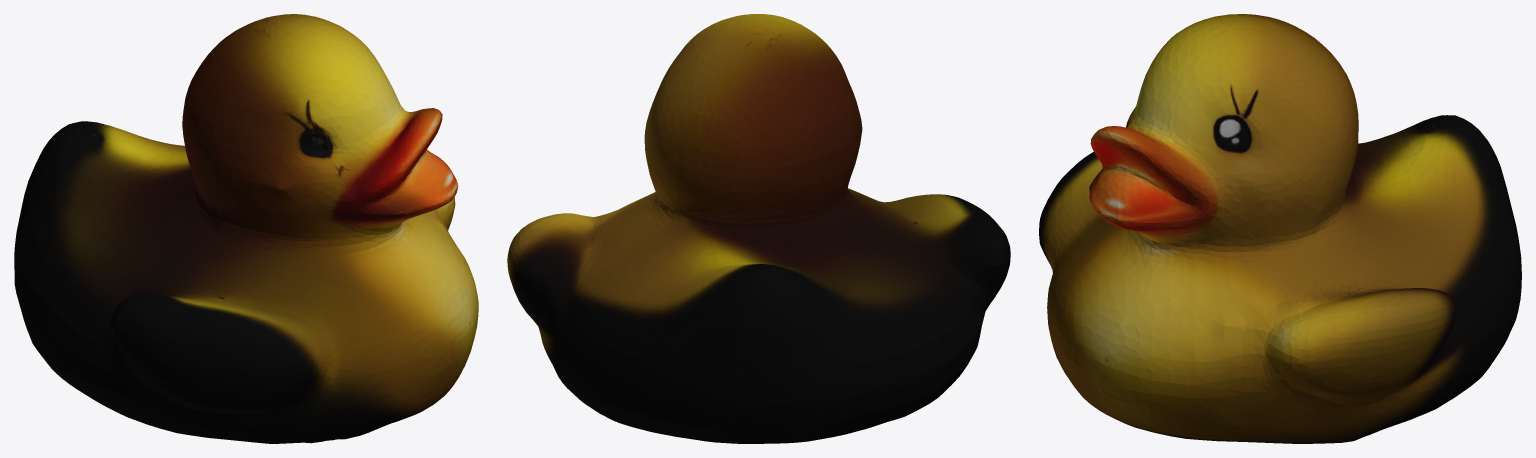
3 renders of one model, left to right at view 1: azimuth 30°, elevation 25°; view 2: azimuth 150°, elevation 25°; view 3: azimuth 270°, elevation 25°, orthographic. The views are drawn at different scales.
Parts seen in each view (by area): view 1: world; view 2: world; view 3: world.
Part boxes in pixels (left/top/right/bottom): world: left=14, top=14, right=478, bottom=443; world: left=507, top=14, right=1010, bottom=443; world: left=1039, top=14, right=1521, bottom=443.
Bounding box in the file's own units: 0.8676 × 0.7009 × 0.8592.
Materials: 1 (1 with a texture image).
